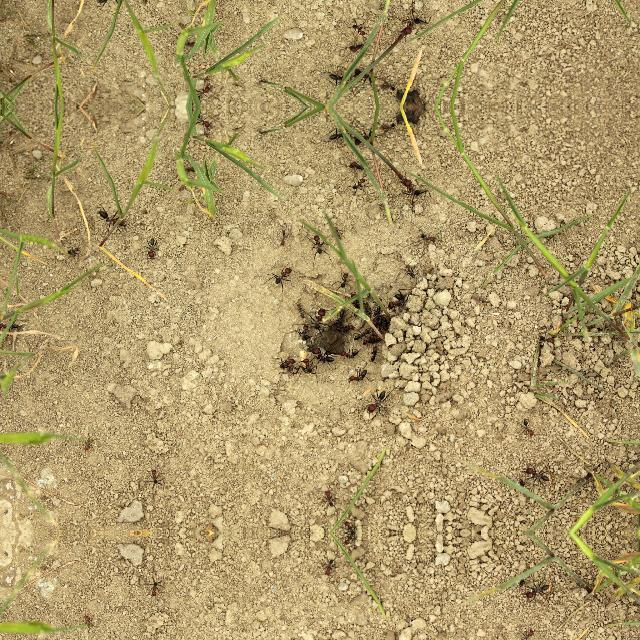Cataglyphis: (402, 174, 431, 198), (402, 14, 431, 38), (364, 389, 391, 413), (521, 464, 553, 484), (521, 581, 553, 601), (268, 263, 296, 285), (95, 208, 125, 228), (140, 235, 162, 259), (0, 312, 24, 332), (308, 232, 326, 255), (320, 556, 338, 578), (346, 367, 370, 383), (520, 417, 538, 438), (320, 488, 338, 508), (270, 228, 290, 246), (146, 466, 162, 486), (310, 351, 334, 364), (341, 518, 362, 532), (310, 307, 326, 325), (146, 580, 162, 598), (276, 355, 296, 369), (65, 241, 85, 255), (518, 626, 538, 640), (416, 230, 439, 242), (351, 328, 373, 340), (384, 297, 406, 309), (337, 270, 353, 286), (341, 534, 362, 546), (329, 322, 353, 332), (298, 324, 312, 341), (293, 302, 307, 318), (80, 612, 94, 628), (357, 333, 379, 343), (339, 348, 361, 358), (350, 176, 368, 188), (300, 360, 318, 372), (348, 160, 366, 172), (350, 24, 368, 36), (348, 40, 366, 51), (80, 438, 94, 452), (327, 128, 343, 140), (198, 116, 214, 128), (327, 72, 343, 84), (198, 84, 214, 96), (366, 347, 379, 361), (402, 266, 420, 276), (95, 0, 125, 4)
